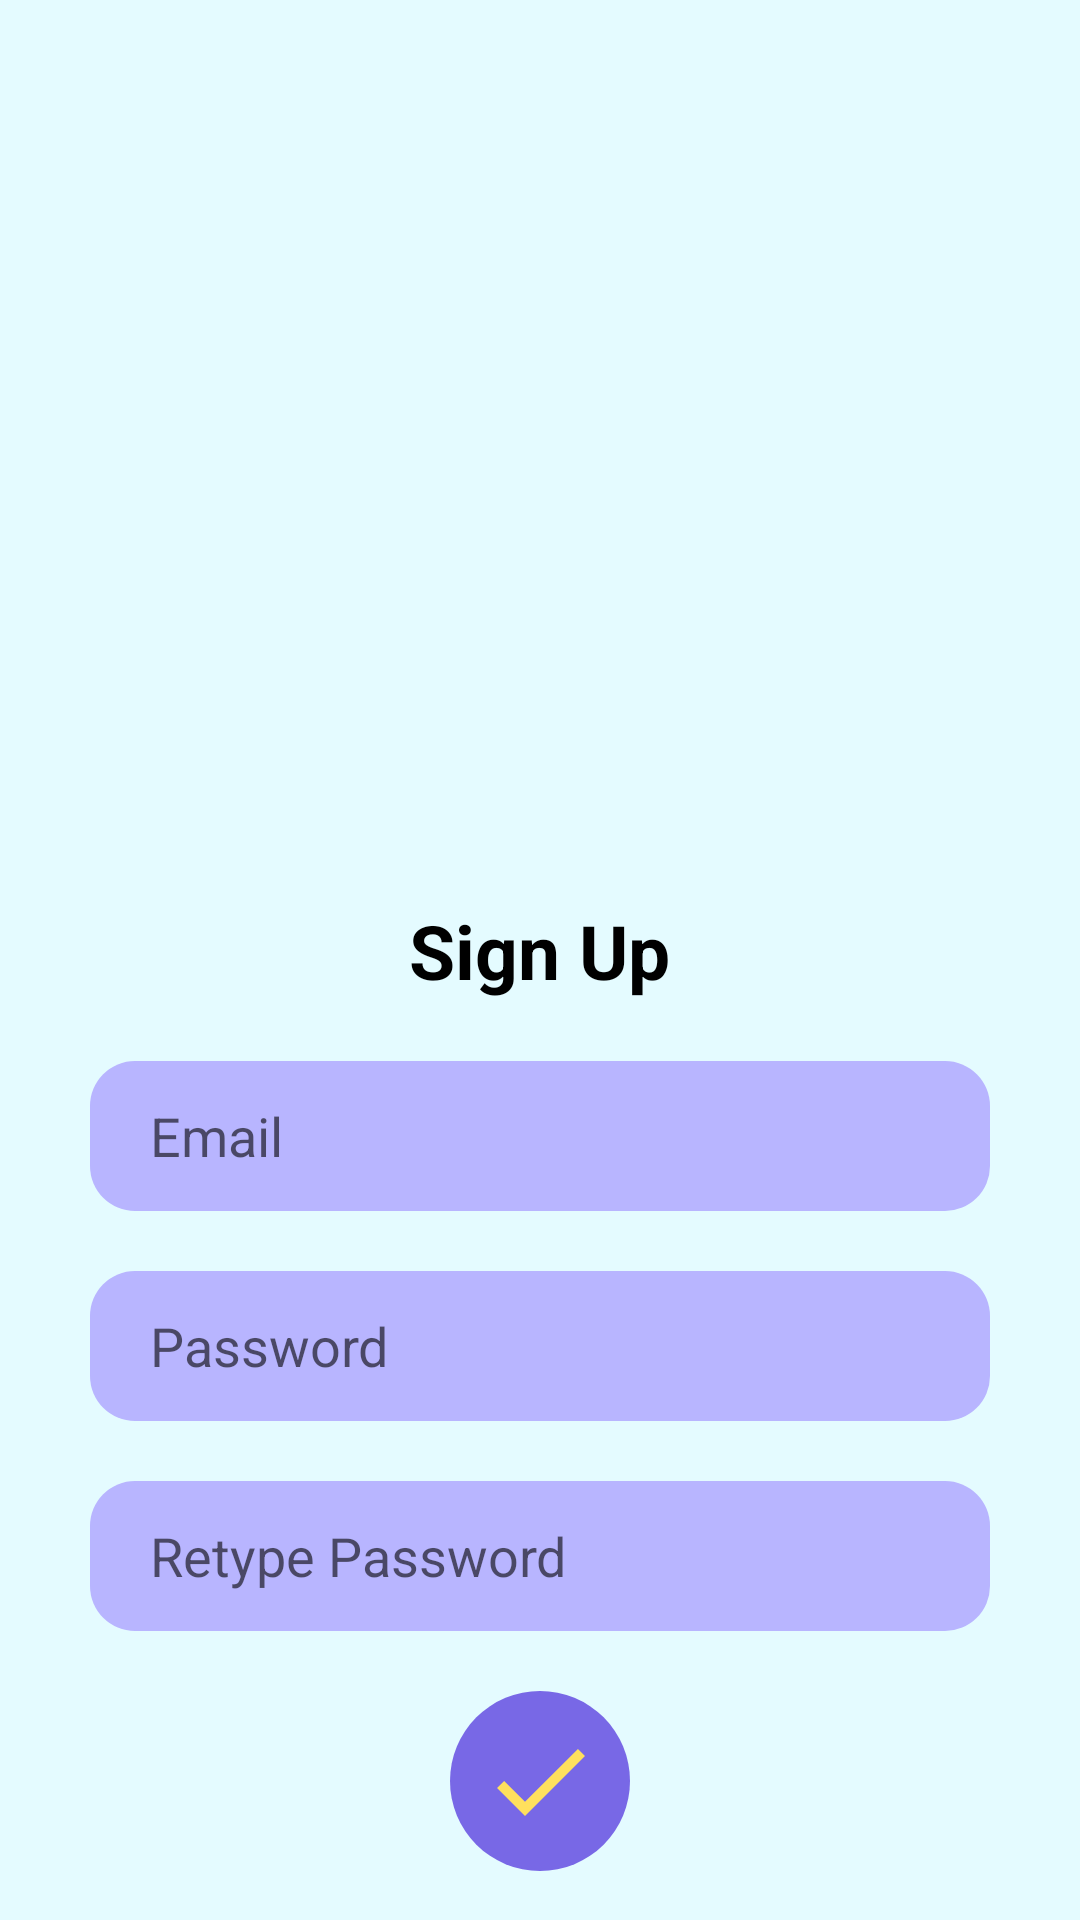

Named icons in this screenshot (1080×1920) and their centers, (x=x, y=y):
check: (x=540, y=1781)
